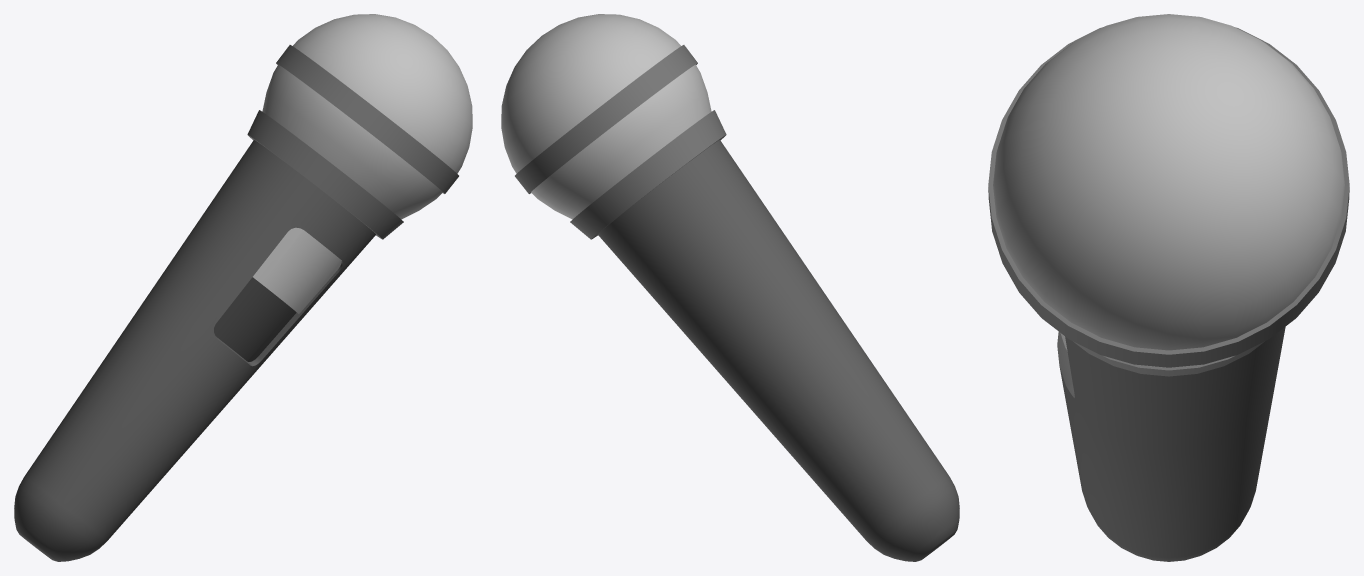
The model's file is microphone.glb.
The picture shows the model from 3 angles, left to right: view 1: azimuth 30°, elevation 25°; view 2: azimuth 150°, elevation 25°; view 3: azimuth 270°, elevation 25°; orthographic projection. The views are drawn at different scales.
Parts seen in each view (by area): view 1: Sphere.526; view 2: Sphere.526; view 3: Sphere.526.
Boxes of the visible parts, bbox=[...] form: Sphere.526: bbox=[14, 14, 472, 561]; Sphere.526: bbox=[501, 14, 959, 561]; Sphere.526: bbox=[988, 14, 1349, 561].
Size of the model in its own units: 1.87 by 1.87 by 0.7926.
Materials: 1 (1 with a texture image).
